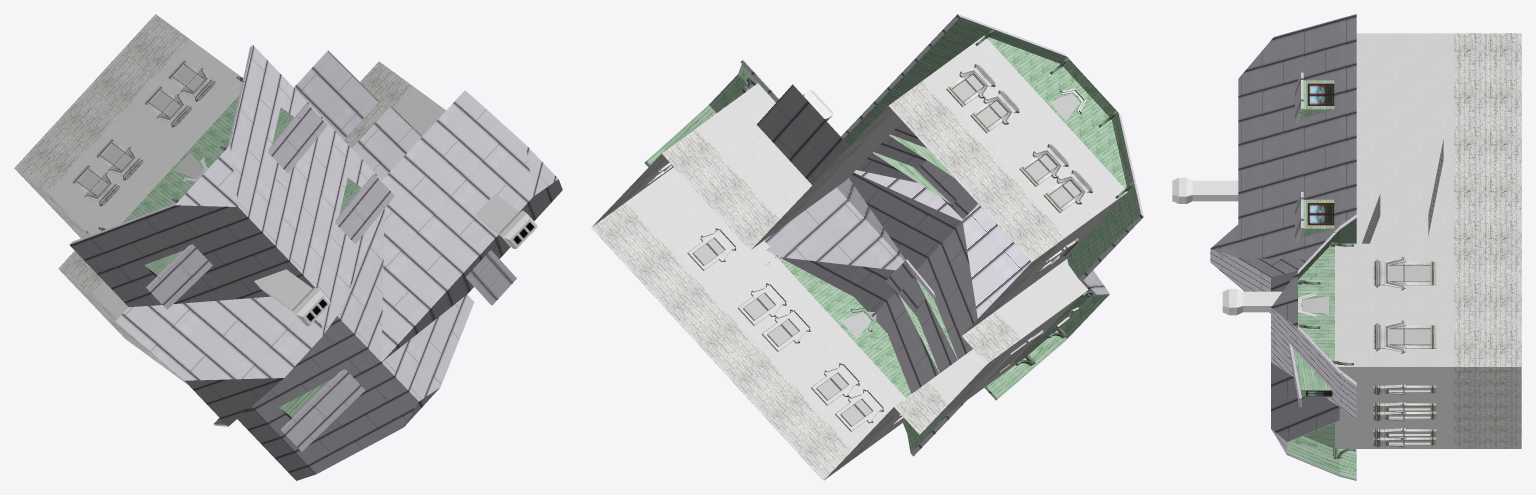
The model's file is Rannamae_tee_3.obj.
3 views of the same model, side by side, from view 1: azimuth 30°, elevation 25°; view 2: azimuth 150°, elevation 25°; view 3: azimuth 270°, elevation 25° (orthographic).
Visible parts, largest first — view 1: Rannamae_tee_3; view 2: Rannamae_tee_3; view 3: Rannamae_tee_3.
Part boxes in pixels (left/top/right/bottom): Rannamae_tee_3: left=14, top=14, right=562, bottom=480; Rannamae_tee_3: left=591, top=14, right=1143, bottom=480; Rannamae_tee_3: left=1172, top=14, right=1521, bottom=480.
Bounding box in the file's own units: 23.42 × 20.31 × 14.42.
